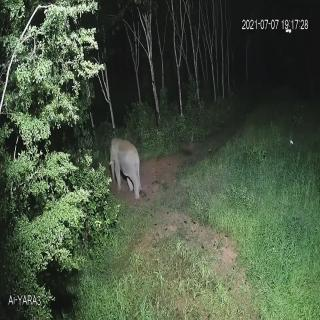Elephant: (106, 132, 145, 196)
